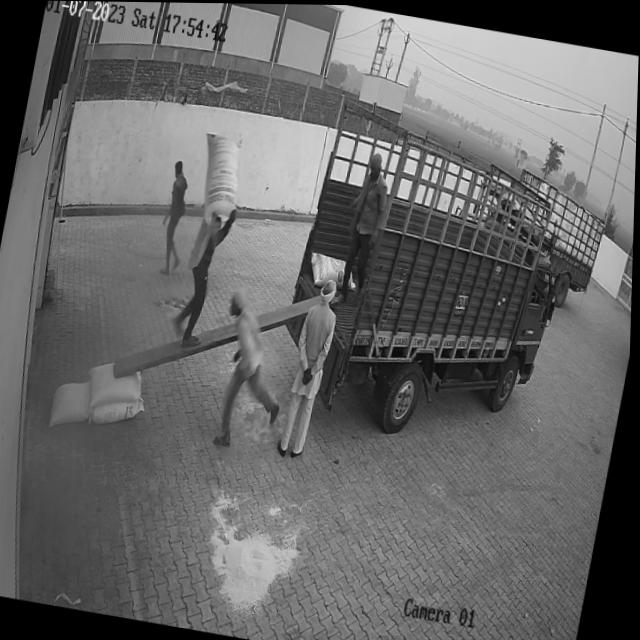sack: (191, 130, 250, 228), (86, 359, 146, 412), (50, 377, 98, 431), (92, 393, 147, 430), (306, 249, 350, 291)
